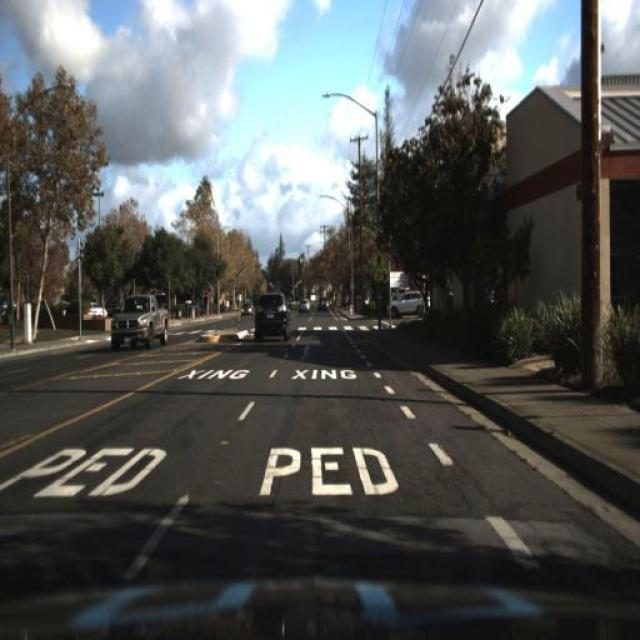car: (102, 289, 173, 356), (246, 281, 298, 353), (253, 288, 291, 341), (385, 292, 431, 320), (315, 292, 334, 316), (294, 294, 311, 314)
trafficLight: (373, 287, 386, 323)
